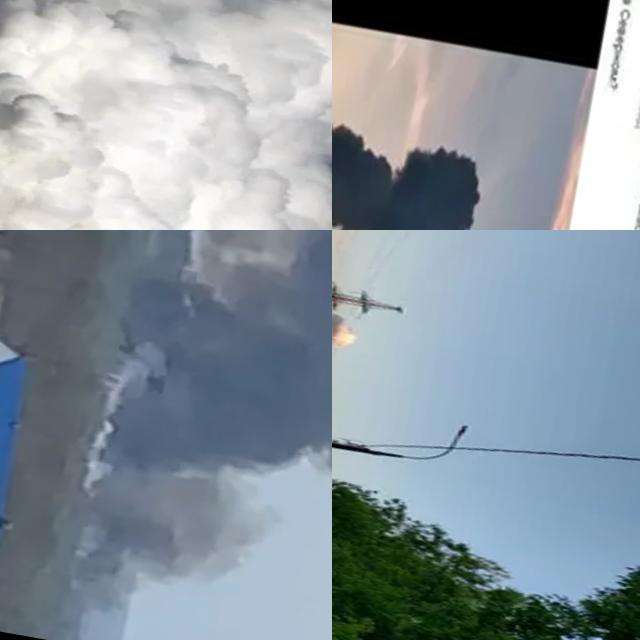smoke: (69, 230, 332, 640), (0, 0, 332, 230), (332, 100, 489, 230)
